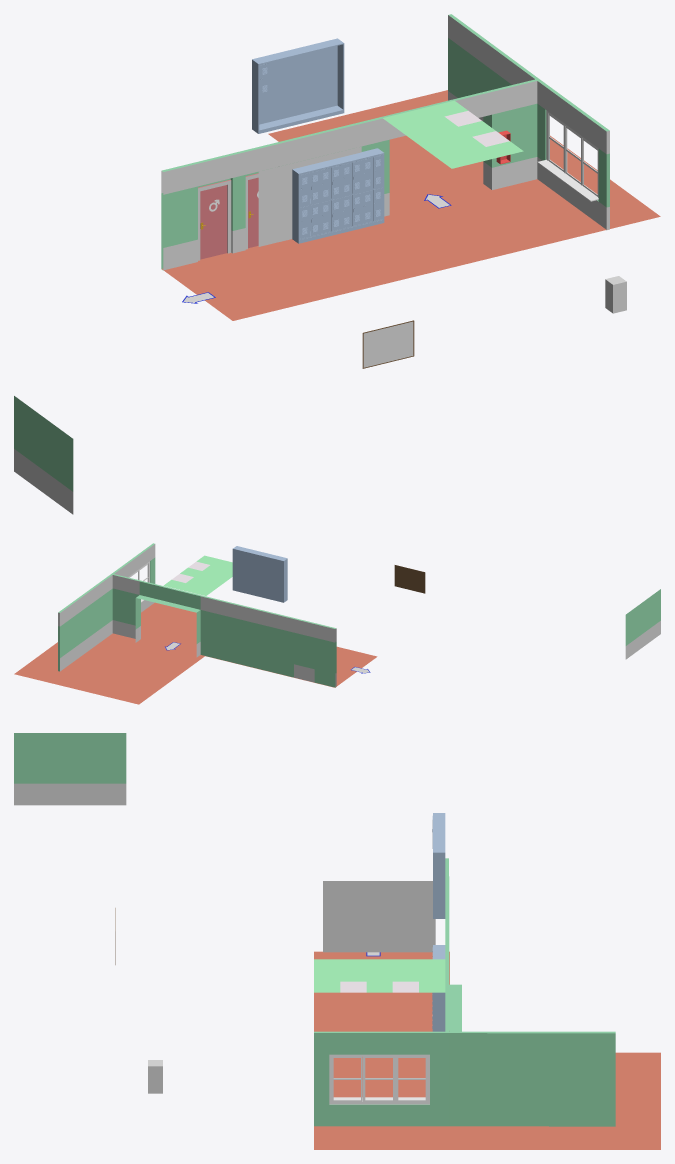
Rendered from school_hallway_03.glb.
3 renders of one model, top to bottom at view 1: azimuth 30°, elevation 25°; view 2: azimuth 150°, elevation 25°; view 3: azimuth 270°, elevation 25°, orthographic. The views are drawn at different scales.
Parts seen in each view (by area): view 1: floor, walls, lockers, outer frame.001, Plane, Plane.006, Plane.004, door single, Cube, walls.001, door single.001, Cube.001; view 2: walls, floor, outer frame.001, Plane, Plane.006, Cube; view 3: walls, floor, Plane.006, Plane.005, Plane, outer frame.001, walls.001, lockers.
Part boxes in pixels (x1,y1,x2,y2): floor: [162, 90, 660, 320]; walls: [161, 14, 609, 270]; lockers: [292, 148, 384, 243]; outer frame.001: [252, 38, 344, 133]; Plane: [383, 100, 523, 168]; Plane.006: [14, 396, 73, 514]; Plane.004: [258, 146, 361, 246]; door single: [198, 179, 231, 260]; Cube: [362, 320, 414, 368]; walls.001: [537, 110, 598, 201]; door single.001: [245, 173, 258, 249]; Cube.001: [605, 276, 626, 313]; walls: [58, 543, 336, 687]; floor: [14, 602, 377, 704]; outer frame.001: [232, 546, 287, 602]; Plane: [163, 555, 232, 595]; Plane.006: [625, 589, 660, 659]; Cube: [394, 565, 425, 593]; walls: [314, 858, 615, 1126]; floor: [314, 951, 660, 1149]; Plane.006: [14, 733, 126, 805]; Plane.005: [323, 881, 435, 952]; Plane: [314, 959, 445, 992]; outer frame.001: [433, 813, 445, 918]; walls.001: [329, 1054, 429, 1104]; lockers: [432, 945, 445, 1031].
Bounding box in the file's own units: 21.74 × 5.29 × 17.23.
